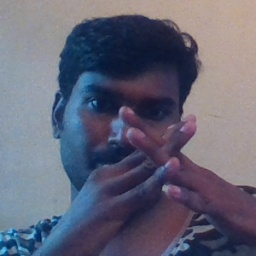W: (96, 97, 224, 226)
